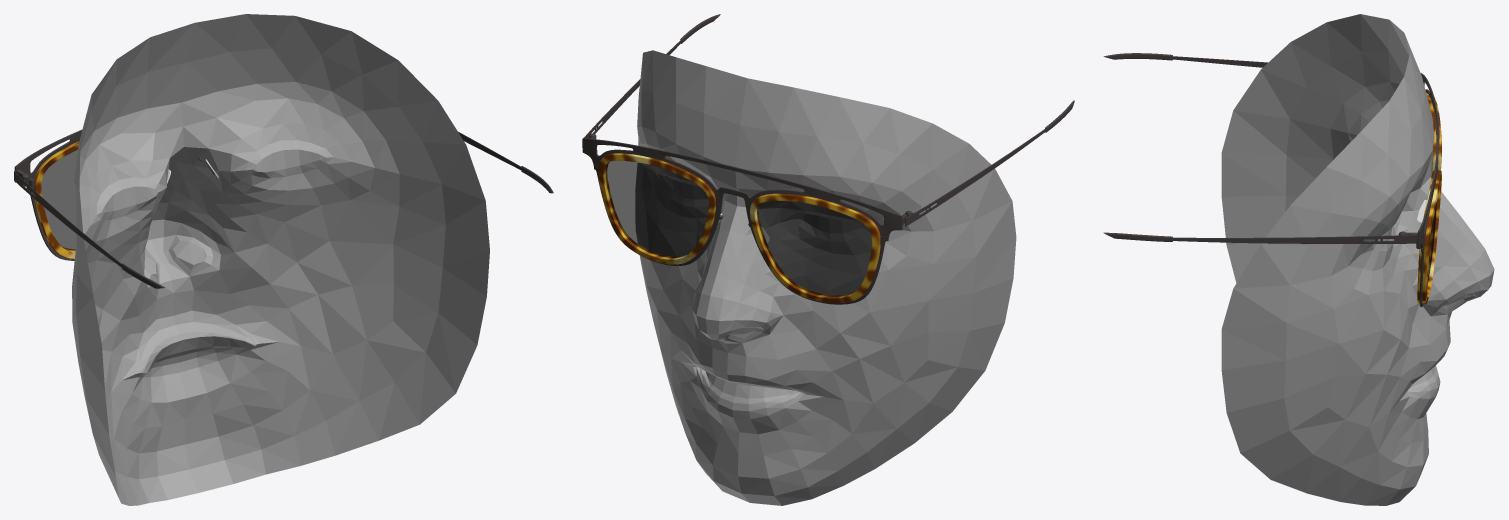
File: dor.glb
The picture shows the model from 3 angles, left to right: view 1: azimuth 30°, elevation 25°; view 2: azimuth 150°, elevation 25°; view 3: azimuth 270°, elevation 25°; orthographic projection. The views are drawn at different scales.
Visible parts, largest first — view 1: facemesh, frame, lens, temple_right, temple_left; view 2: facemesh, lens, frame, temple_right, temple_left; view 3: facemesh, frame, temple_left, temple_right.
Part boxes in pixels (<box>): facemesh: <box>72,14,489,505</box>; frame: <box>14,129,218,260</box>; lens: <box>41,150,77,250</box>; temple_right: <box>14,171,165,288</box>; temple_left: <box>458,131,553,193</box>; facemesh: <box>635,50,1016,505</box>; lens: <box>605,160,871,296</box>; frame: <box>582,133,913,304</box>; temple_right: <box>582,100,1074,226</box>; temple_left: <box>584,14,720,138</box>; facemesh: <box>1221,14,1494,505</box>; frame: <box>1399,73,1441,307</box>; temple_left: <box>1103,232,1416,243</box>; temple_right: <box>1103,53,1416,243</box>.
Size of the model in its own units: 0.159 by 0.1767 by 0.1436.
6 materials, 1 textured.
